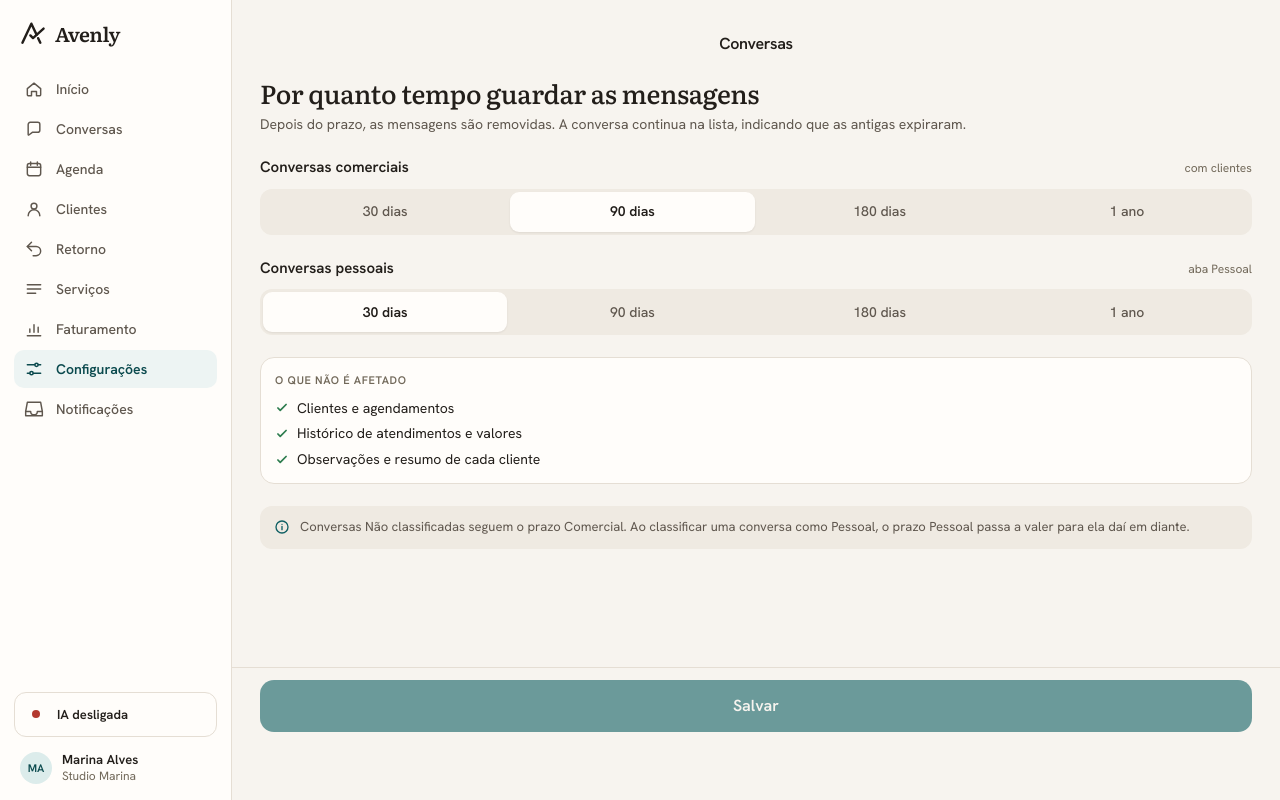
Test case: Goal104 prova 3: R1 em /configuracoes/conversas › 'Salvar' fica desabilitado sem mudança e escolher não envia nada
Expected: the button "Salvar" is disabled, [260,680,1252,732]
Click the radio button labelled "180 dias" below "com clientes" at (880, 211), box [853,202,906,220]
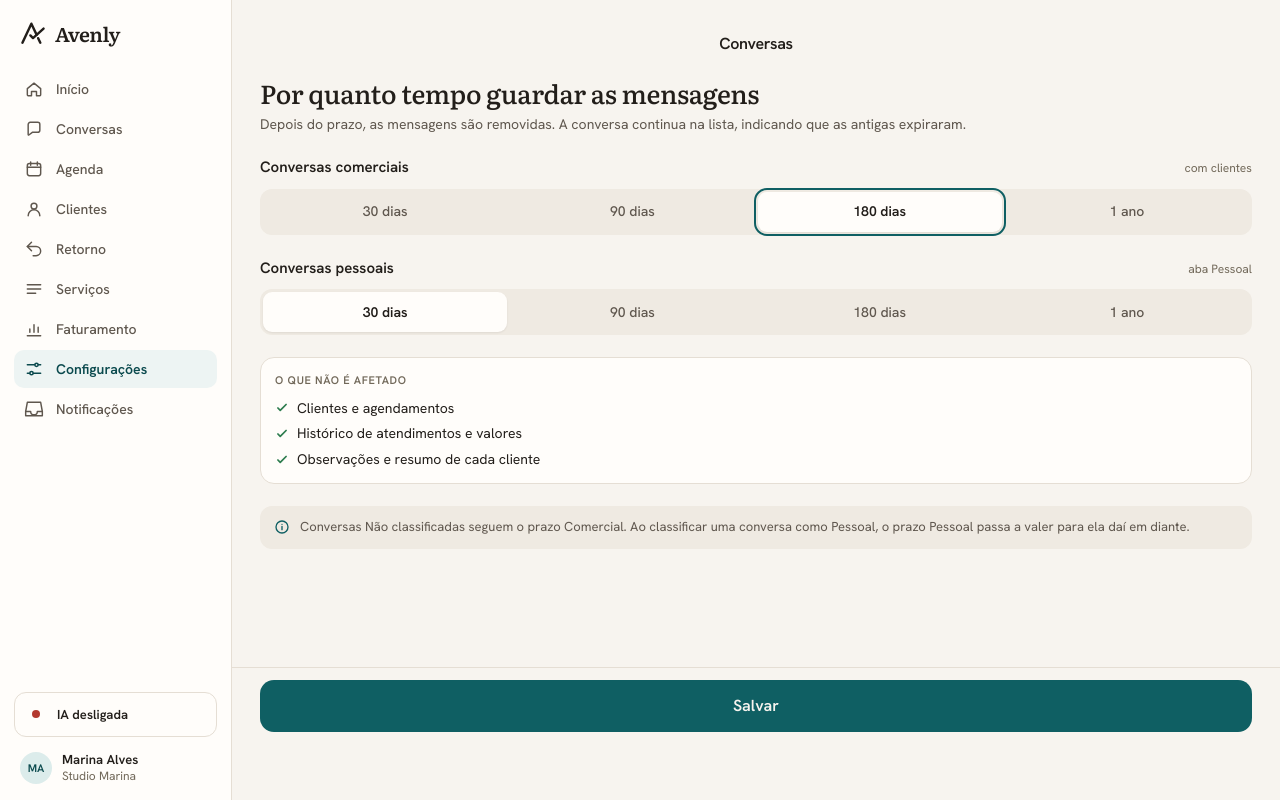
Expected: the button "Salvar" is enabled, [260,680,1252,732]
Click the radio button labelled "90 dias" below "Conversas comerciais" at (632, 211), box [610,202,655,220]
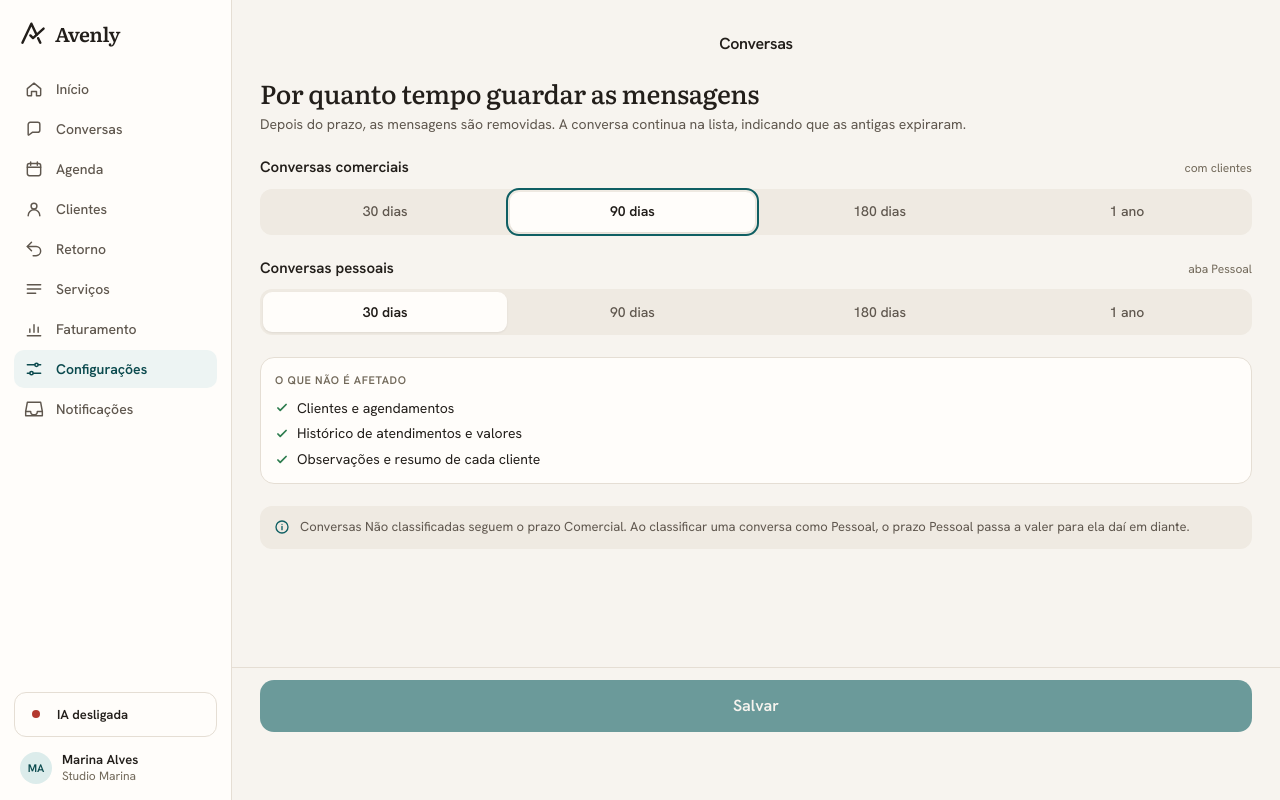
Expected: the button "Salvar" is disabled, [260,680,1252,732]
